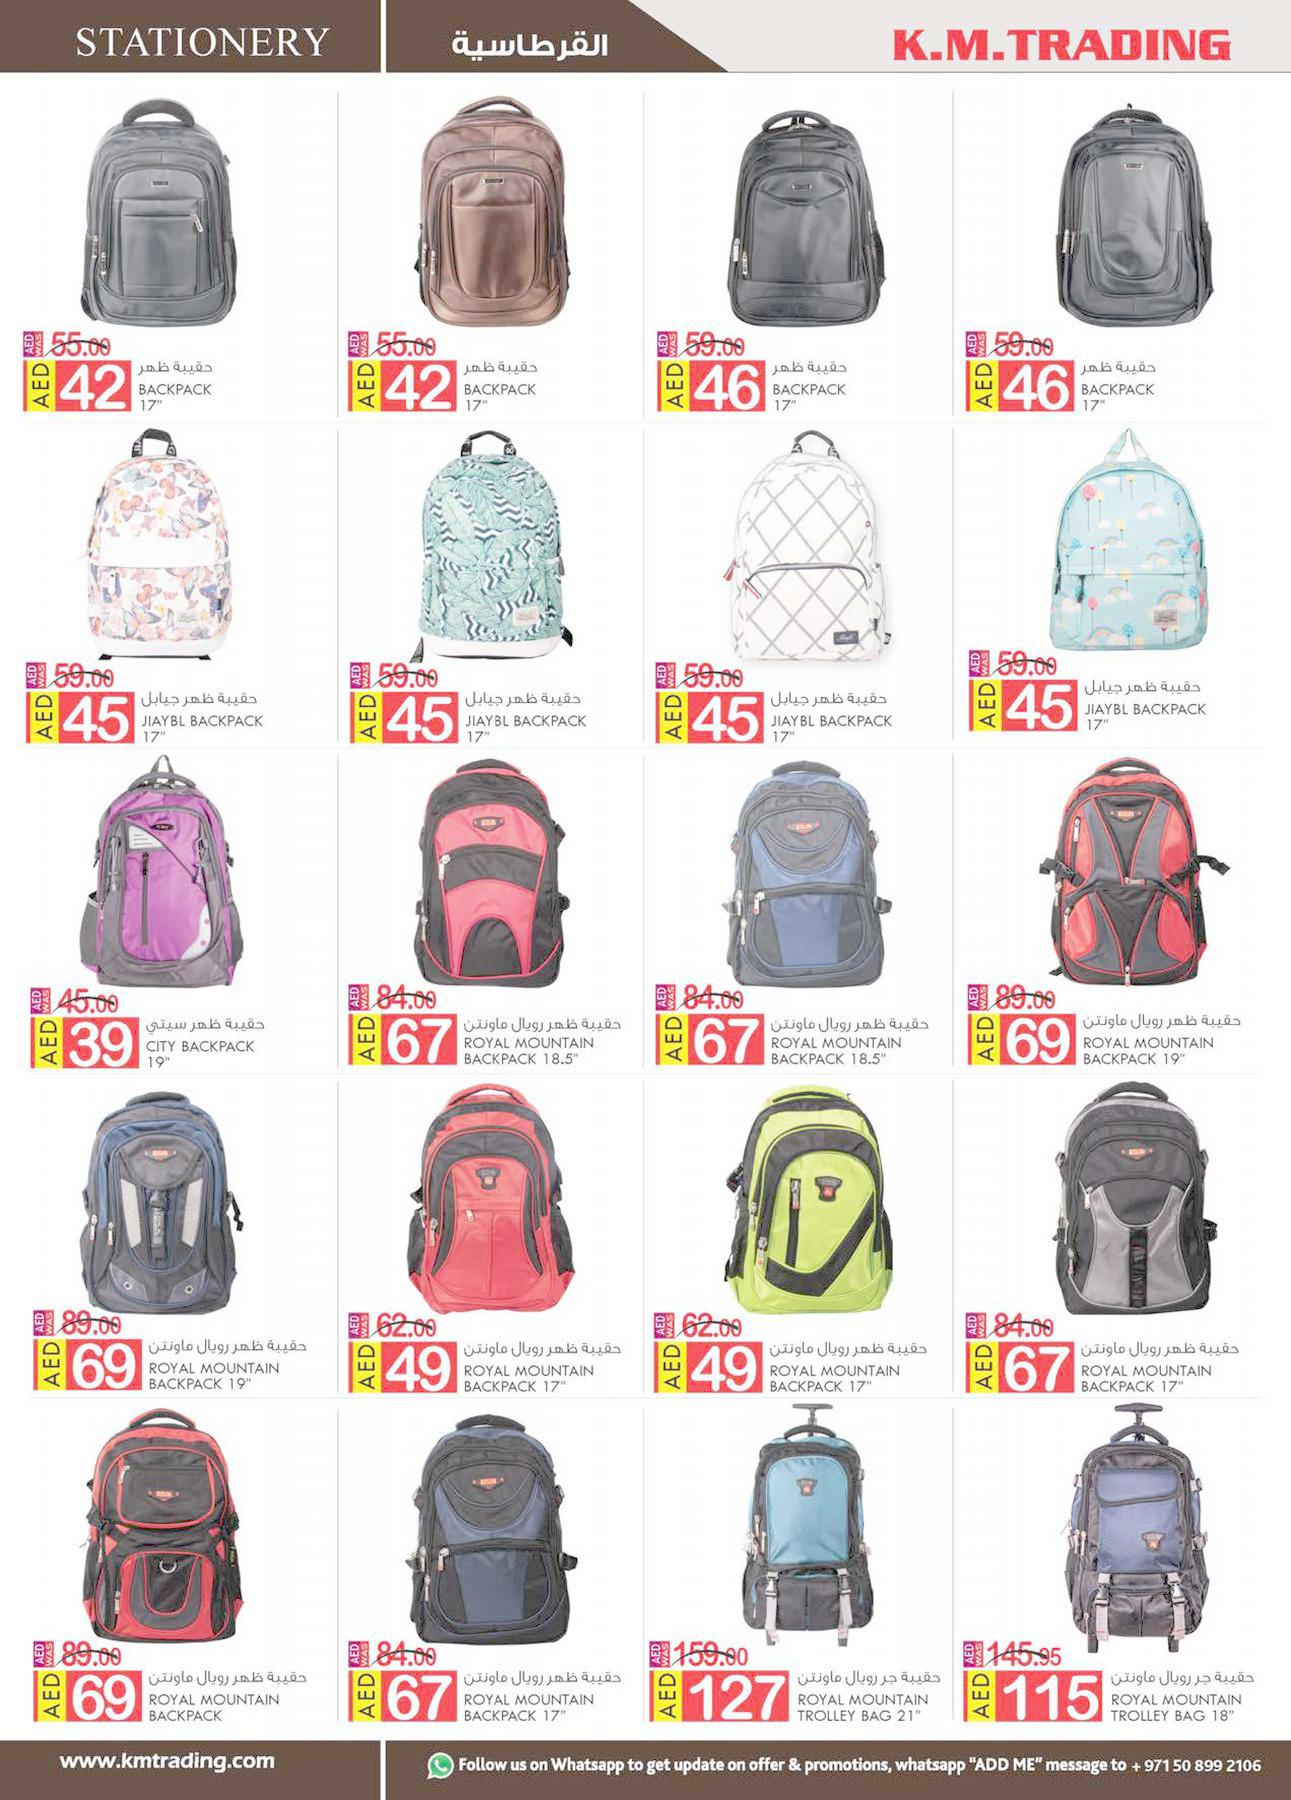text: (1074, 1005, 1248, 1074), (761, 1008, 938, 1071), (460, 1663, 627, 1727), (763, 1336, 933, 1399), (1076, 1338, 1243, 1401), (1104, 1665, 1262, 1730), (143, 1667, 314, 1727), (457, 1012, 630, 1071), (134, 684, 282, 751), (766, 680, 905, 750), (789, 1665, 944, 1726), (1079, 672, 1218, 739), (462, 683, 592, 751), (140, 1011, 271, 1077), (766, 351, 858, 420), (457, 355, 552, 422), (1076, 353, 1169, 420), (134, 353, 224, 422)
